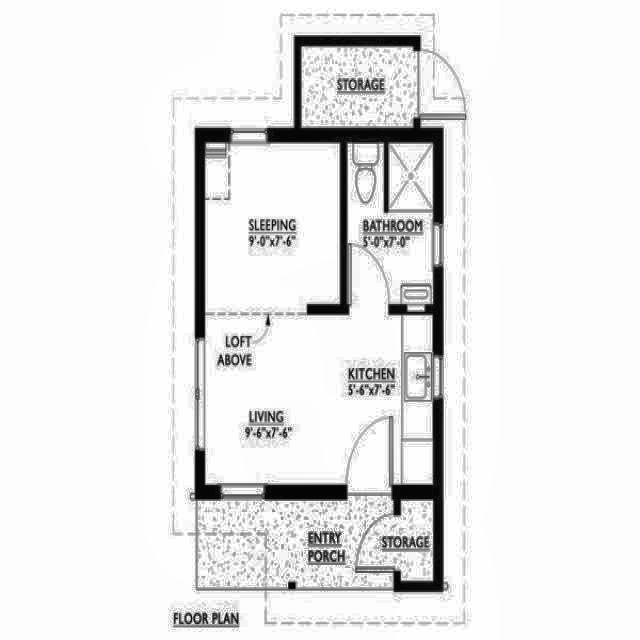room: (205, 140, 434, 484), (348, 143, 432, 303), (302, 46, 413, 127), (401, 500, 434, 580)
